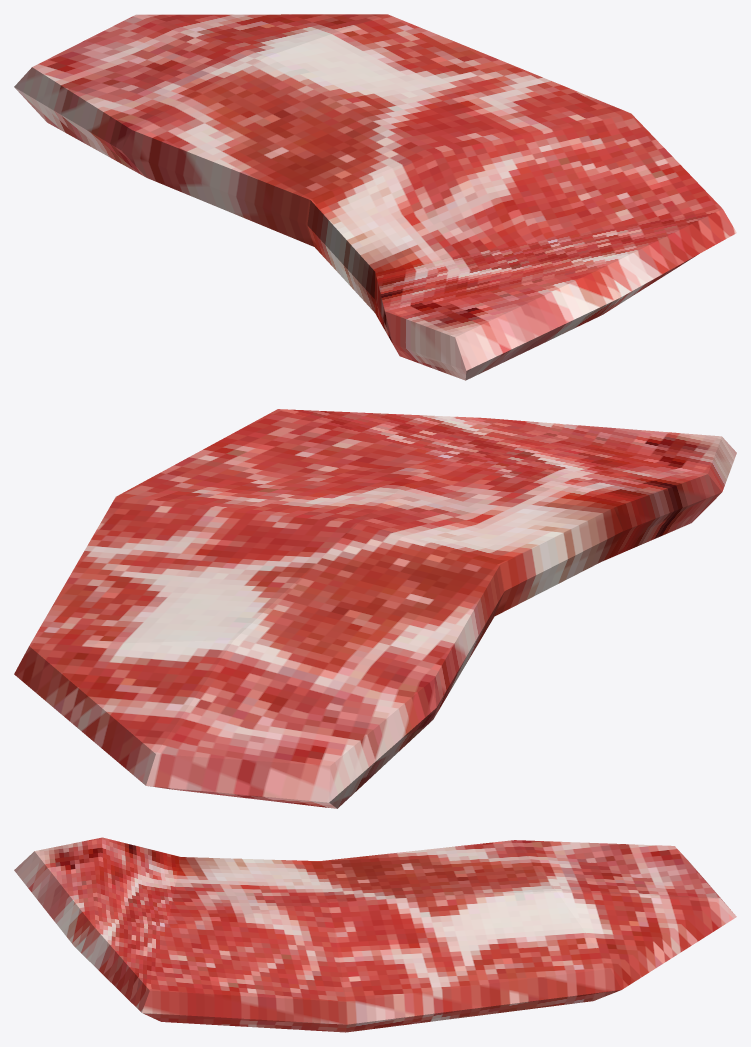
File: daging aja 1.fbx
3 views of the same model, one above another, from view 1: azimuth 30°, elevation 25°; view 2: azimuth 150°, elevation 25°; view 3: azimuth 270°, elevation 25° (orthographic). The views are drawn at different scales.
Visible parts, largest first — view 1: Plane.007; view 2: Plane.007; view 3: Plane.007.
Part boxes in pixels (x1,y1,x2,y2): Plane.007: (14,14,736,380); Plane.007: (14,409,736,808); Plane.007: (14,837,736,1032).
Bounding box in the file's own units: 81.88 × 13.53 × 150.
